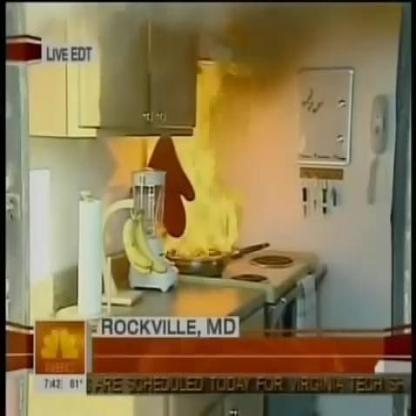fire: (139, 134, 245, 256), (196, 63, 243, 139)
